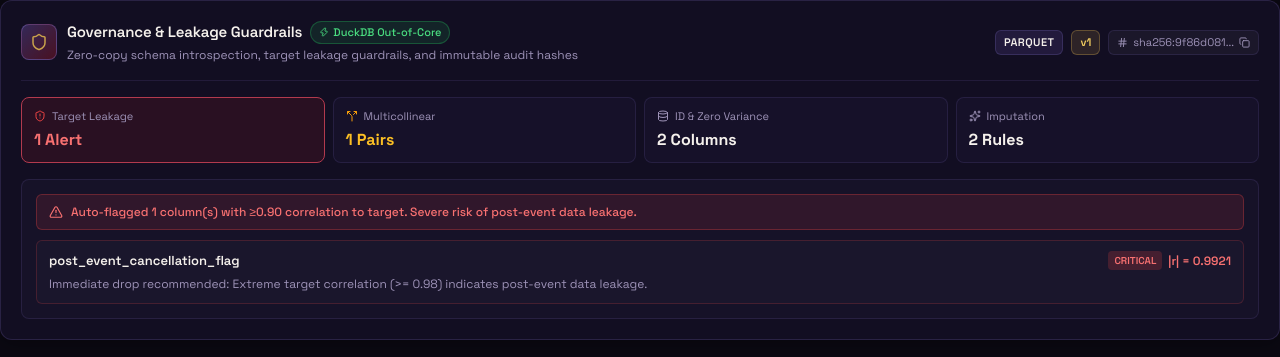
Test: Dataset Governance & Data Quality Guardrails › switches to imputation tab and displays recommended strategies
Note: Click Imputation tab
Click the text "Imputation" at (1016, 116), box [986,108,1045,124]
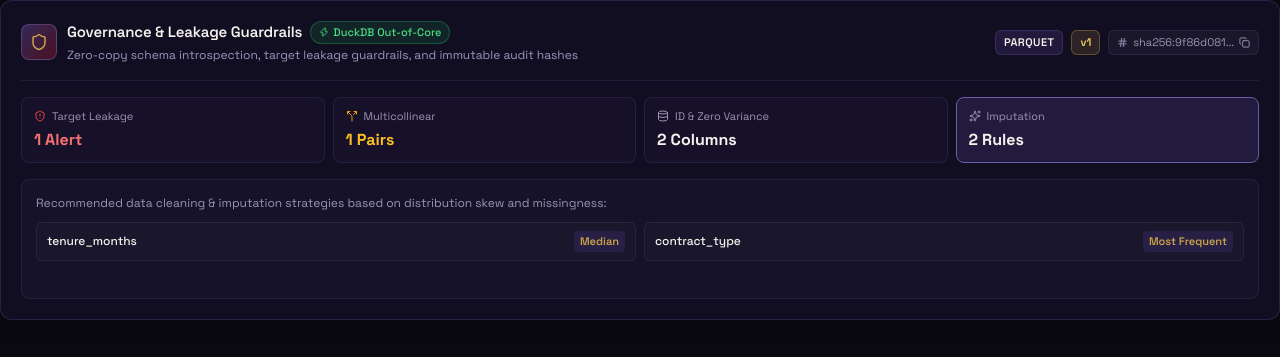
Expected: the text "tenure_months" is shown, [47,232,137,250]
Expected: the text "median" is shown, [574,231,625,252]
Expected: the text "contract_type" is shown, [655,232,741,250]
